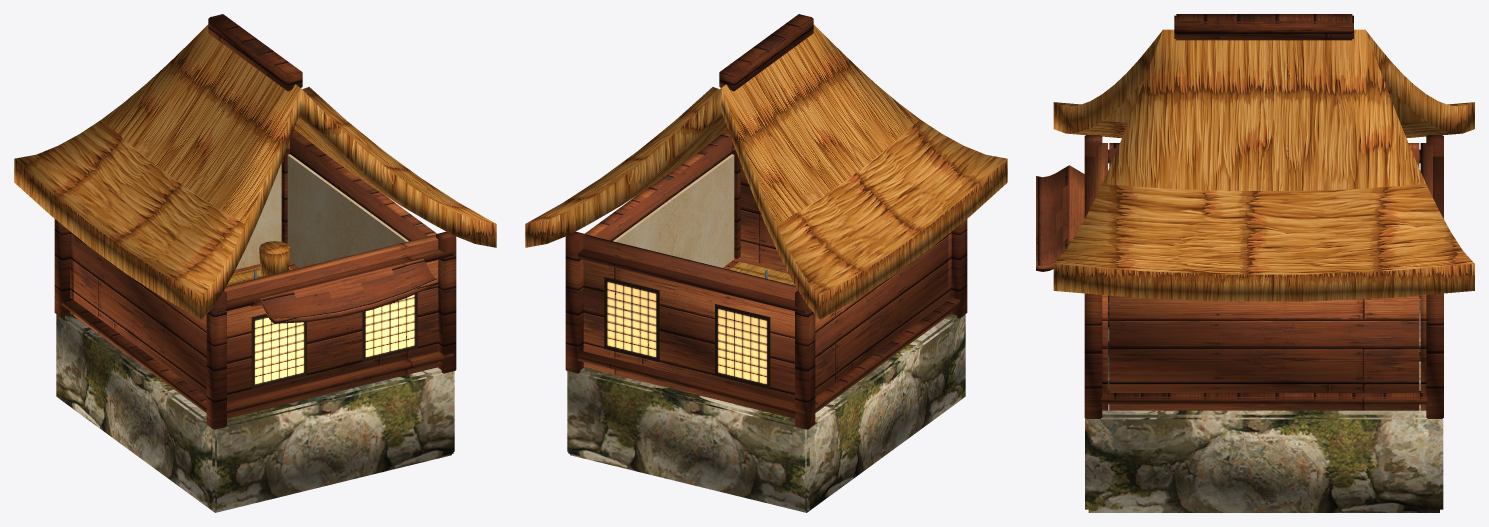
The model's file is minka_hero_v1.glb.
3 renders of one model, left to right at view 1: azimuth 30°, elevation 25°; view 2: azimuth 150°, elevation 25°; view 3: azimuth 270°, elevation 25°, orthographic. The views are drawn at different scales.
Visible parts, largest first — view 1: peek_roof_thatch, exterior_stone, exterior_cedar, exterior_charred, interior_room_walls, exterior_shoji, exterior_hisashi, peek_roof_ridge, interior_props_straw, interior_room_timber; view 2: peek_roof_thatch, exterior_stone, exterior_cedar, exterior_charred, exterior_shoji, interior_room_walls, peek_roof_ridge, interior_room_timber, interior_room_tatami; view 3: peek_roof_thatch, exterior_stone, exterior_cedar, exterior_charred, peek_roof_ridge, exterior_hisashi.
Boxes of the visible parts, x1,y1,x2,y2 form: peek_roof_thatch: [14, 24, 496, 319]; exterior_stone: [56, 314, 454, 512]; exterior_cedar: [70, 130, 438, 418]; exterior_charred: [54, 129, 456, 429]; interior_room_walls: [235, 154, 408, 269]; exterior_shoji: [251, 293, 417, 389]; exterior_hisashi: [250, 258, 438, 323]; peek_roof_ridge: [208, 14, 302, 91]; interior_props_straw: [259, 241, 290, 276]; interior_room_timber: [281, 148, 289, 243]; peek_roof_thatch: [525, 24, 1007, 319]; exterior_stone: [567, 314, 965, 512]; exterior_cedar: [583, 130, 951, 418]; exterior_charred: [565, 129, 967, 429]; exterior_shoji: [604, 277, 770, 389]; interior_room_walls: [613, 154, 734, 267]; peek_roof_ridge: [719, 14, 813, 91]; interior_room_timber: [732, 148, 740, 258]; interior_room_tatami: [729, 262, 794, 285]; peek_roof_thatch: [1053, 29, 1474, 301]; exterior_stone: [1085, 295, 1443, 512]; exterior_cedar: [1095, 143, 1432, 410]; exterior_charred: [1084, 135, 1443, 418]; peek_roof_ridge: [1174, 14, 1353, 40]; exterior_hisashi: [1036, 165, 1084, 271].
Size of the model in its own units: 4.37 by 5.42 by 5.01.
13 materials, 9 textured.
